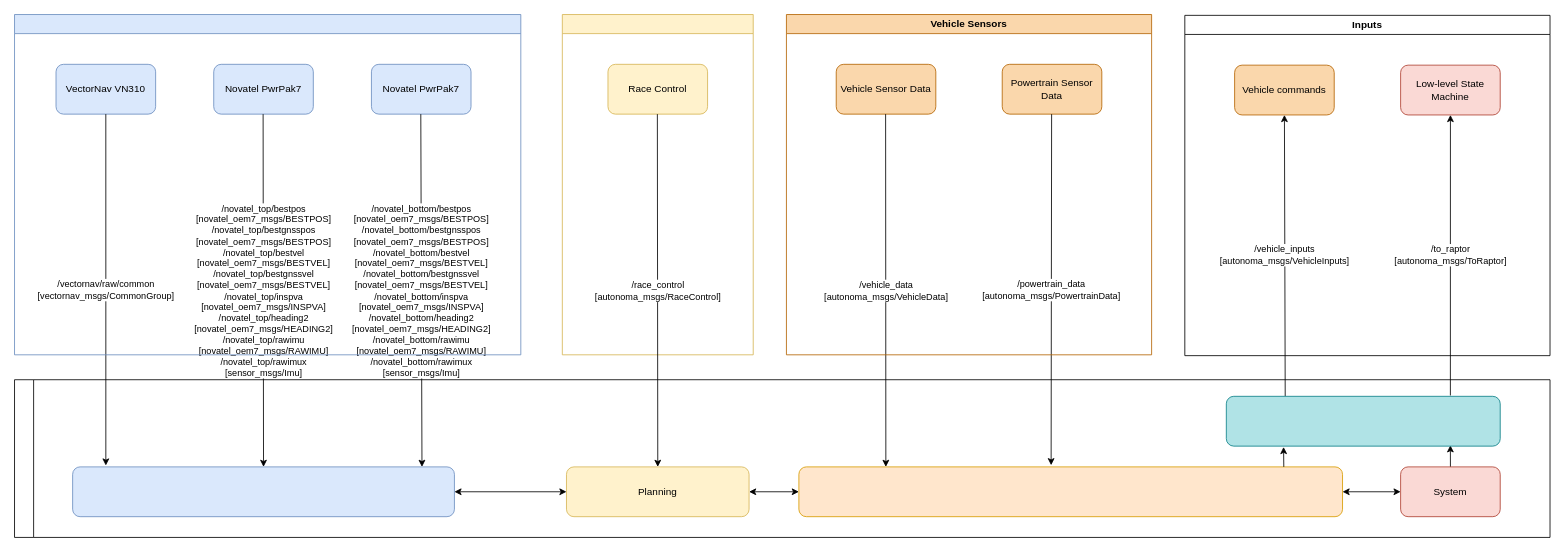
Some shapes in this 1565 by 552 pixel diagram are drawn without their labels. The box of each missing label's shape, as (x1, y1, x2, y2) in pixels:
Autonomous Driving Software: (14, 379, 1550, 537)
Control: (798, 466, 1343, 517)
GNSS/INS Sensors: (14, 14, 521, 355)
Localization: (72, 466, 454, 517)
Race Control Interface: (561, 14, 753, 355)
Vehicle Interface: (1225, 395, 1500, 446)
